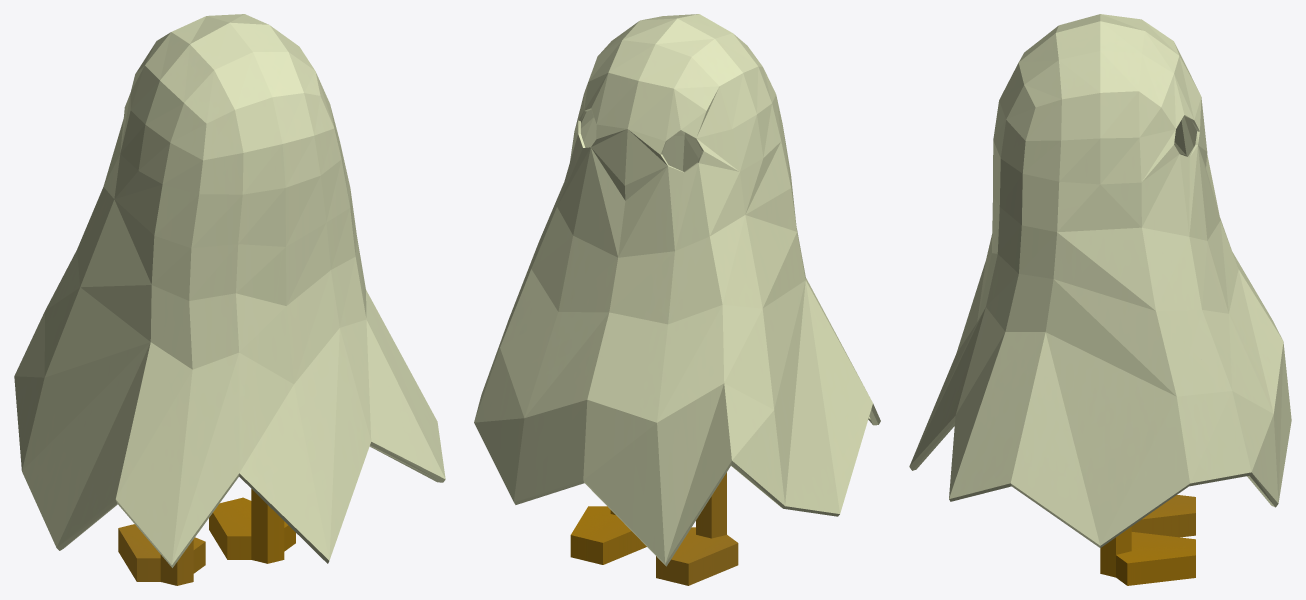
The model's file is Fantasminha_01_Root.fbx.
3 views of the same model, side by side, from view 1: azimuth 30°, elevation 25°; view 2: azimuth 150°, elevation 25°; view 3: azimuth 270°, elevation 25° (orthographic). The views are drawn at different scales.
Visible parts, largest first — view 1: Fantasminha_01_frag_009, Fantasminha_01_frag_015, Fantasminha_01_frag_032, Fantasminha_01_frag_033, Fantasminha_01_frag_026, Fantasminha_01_frag_047, Fantasminha_01_frag_010, Fantasminha_01_frag_024, Fantasminha_01_frag_039, Fantasminha_01_frag_078, Fantasminha_01_frag_020, Fantasminha_01_frag_017 (+20 smaller); view 2: Fantasminha_01_frag_066, Fantasminha_01_frag_055, Fantasminha_01_frag_024, Fantasminha_01_frag_077, Fantasminha_01_frag_010, Fantasminha_01_frag_023, Fantasminha_01_frag_054, Fantasminha_01_frag_075, Fantasminha_01_frag_053, Fantasminha_01_frag_027, Fantasminha_01_frag_003, Fantasminha_01_frag_049 (+26 smaller); view 3: Fantasminha_01_frag_030, Fantasminha_01_frag_029, Fantasminha_01_frag_048, Fantasminha_01_frag_044, Fantasminha_01_frag_022, Fantasminha_01_frag_016, Fantasminha_01_frag_060, Fantasminha_01_frag_017, Fantasminha_01_frag_077, Fantasminha_01_frag_010, Fantasminha_01_frag_027, Fantasminha_01_frag_078 (+18 smaller).
Part boxes in pixels (x1,y1,x2,y2): Fantasminha_01_frag_009: (142, 104, 297, 285); Fantasminha_01_frag_015: (106, 391, 232, 517); Fantasminha_01_frag_032: (230, 397, 364, 558); Fantasminha_01_frag_033: (106, 285, 225, 401); Fantasminha_01_frag_026: (225, 248, 327, 399); Fantasminha_01_frag_047: (218, 39, 325, 164); Fantasminha_01_frag_010: (142, 14, 269, 118); Fantasminha_01_frag_024: (38, 228, 107, 404); Fantasminha_01_frag_039: (95, 208, 222, 314); Fantasminha_01_frag_078: (293, 346, 420, 459); Fantasminha_01_frag_020: (203, 292, 285, 445); Fantasminha_01_frag_017: (290, 167, 357, 283); Fantasminha_01_frag_066: (550, 221, 684, 369); Fantasminha_01_frag_055: (649, 124, 771, 280); Fantasminha_01_frag_024: (692, 274, 801, 408); Fantasminha_01_frag_077: (569, 49, 674, 227); Fantasminha_01_frag_010: (610, 14, 762, 110); Fantasminha_01_frag_023: (584, 268, 709, 380); Fantasminha_01_frag_054: (604, 443, 700, 529); Fantasminha_01_frag_075: (514, 361, 589, 495); Fantasminha_01_frag_053: (589, 376, 699, 445); Fantasminha_01_frag_027: (503, 276, 570, 399); Fantasminha_01_frag_003: (670, 389, 743, 512); Fantasminha_01_frag_049: (665, 85, 764, 167); Fantasminha_01_frag_030: (1021, 48, 1150, 200); Fantasminha_01_frag_029: (1002, 340, 1150, 497); Fantasminha_01_frag_048: (1086, 197, 1213, 364); Fantasminha_01_frag_044: (1064, 405, 1211, 542); Fantasminha_01_frag_022: (994, 287, 1109, 399); Fantasminha_01_frag_016: (1042, 199, 1145, 299); Fantasminha_01_frag_060: (1146, 345, 1256, 453); Fantasminha_01_frag_017: (993, 169, 1045, 285); Fantasminha_01_frag_077: (1141, 63, 1212, 201); Fantasminha_01_frag_010: (1042, 14, 1184, 72); Fantasminha_01_frag_027: (1183, 298, 1262, 411); Fantasminha_01_frag_078: (948, 319, 1007, 448).
Size of the model in its own units: 43.27 by 65.8 by 43.26.
